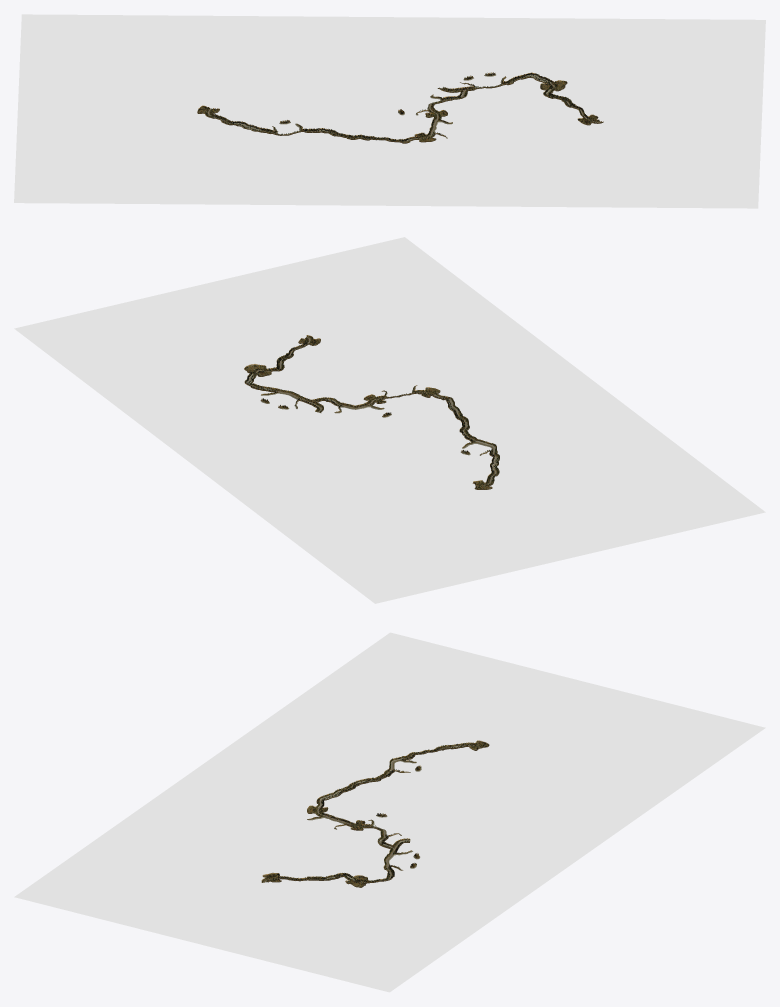
The model's file is finland_stage2_visual.glb.
3 views of the same model, one above another, from view 1: azimuth 30°, elevation 25°; view 2: azimuth 150°, elevation 25°; view 3: azimuth 270°, elevation 25° (orthographic).
Visible parts, largest first — view 1: Props_And_Markers, Track_Road_And_Terrain, Foliage_And_Vegetation; view 2: Props_And_Markers, Track_Road_And_Terrain, Foliage_And_Vegetation; view 3: Props_And_Markers, Track_Road_And_Terrain, Foliage_And_Vegetation.
Part boxes in pixels (bbox=[...]): Props_And_Markers: bbox=[14, 14, 765, 208]; Track_Road_And_Terrain: bbox=[197, 72, 603, 143]; Foliage_And_Vegetation: bbox=[198, 72, 601, 142]; Props_And_Markers: bbox=[14, 237, 765, 603]; Track_Road_And_Terrain: bbox=[244, 335, 499, 489]; Foliage_And_Vegetation: bbox=[245, 336, 499, 488]; Props_And_Markers: bbox=[14, 632, 765, 992]; Track_Road_And_Terrain: bbox=[261, 740, 489, 887]; Foliage_And_Vegetation: bbox=[262, 741, 488, 886].
Size of the model in its own units: 6905 by 64.88 by 6094.
Materials: 40 (40 with a texture image).
